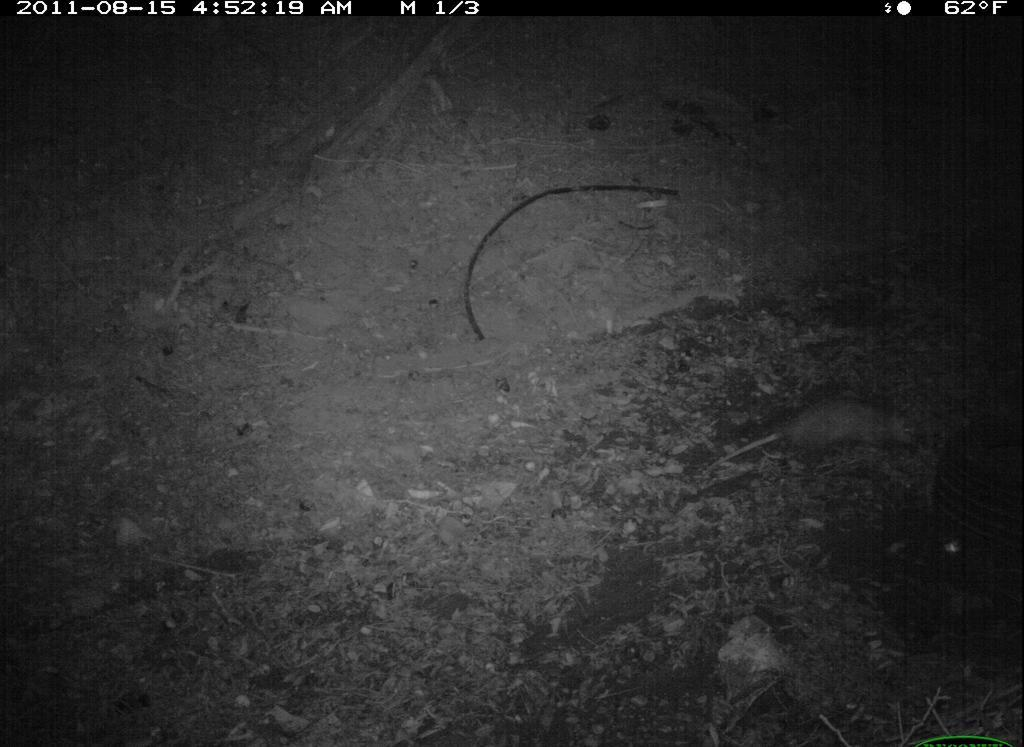opossum: (692, 380, 946, 489)
